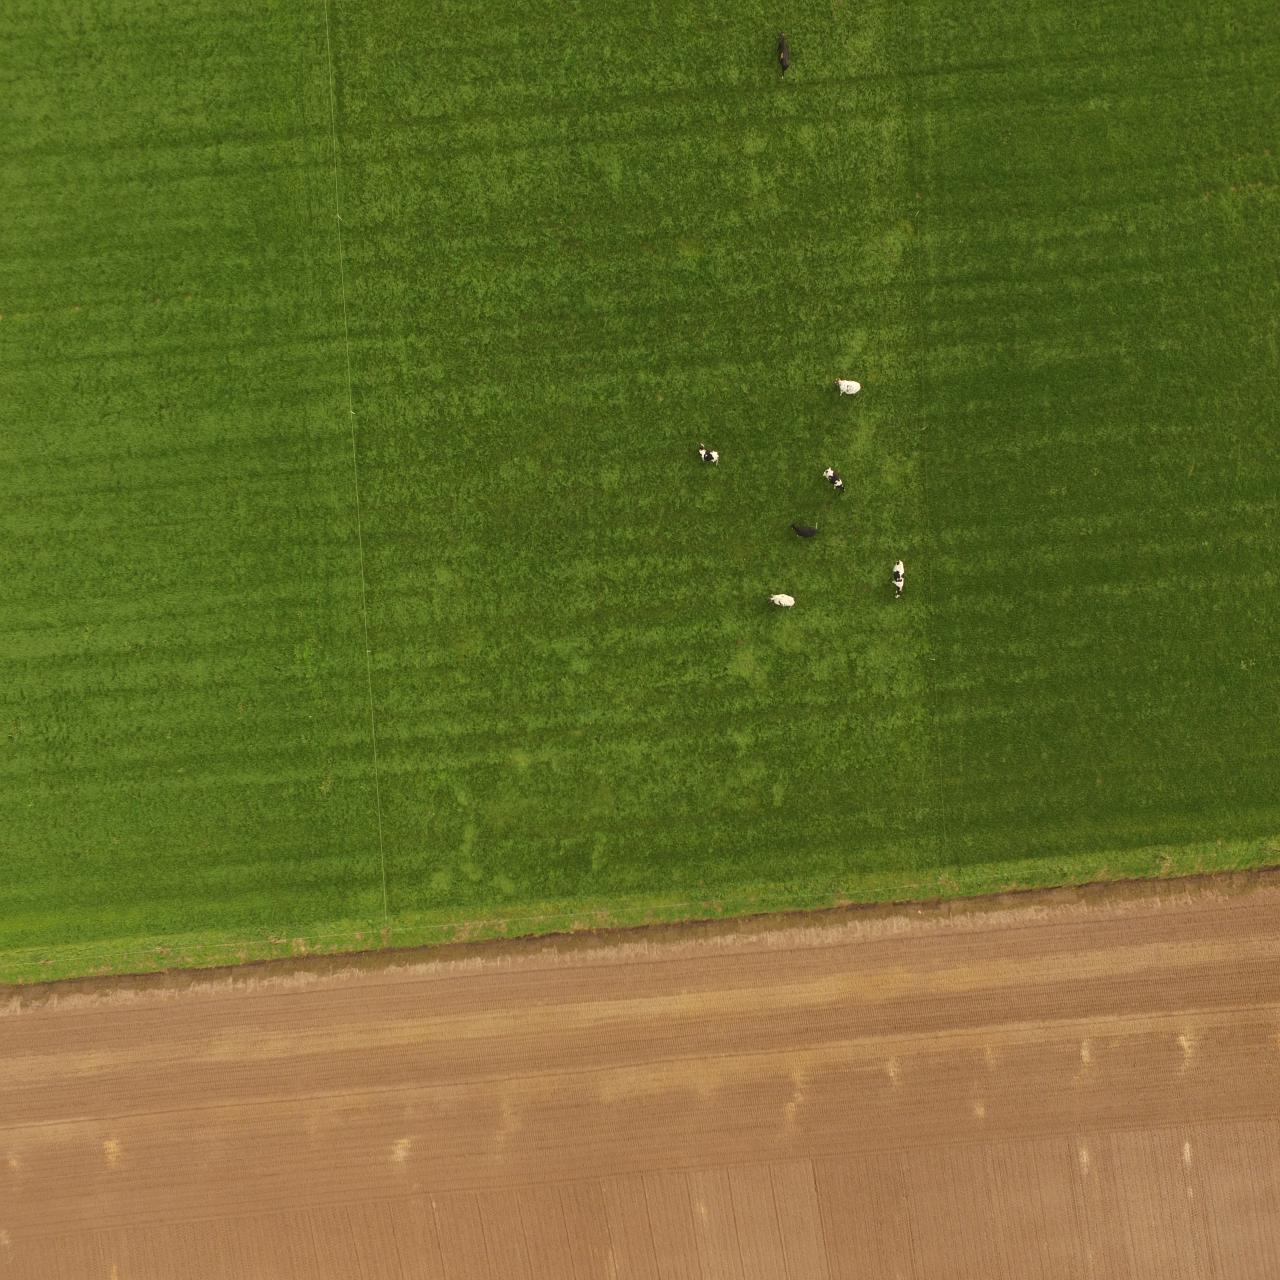cow: (822, 463, 850, 493), (787, 519, 822, 543), (696, 441, 726, 468), (832, 375, 863, 400), (762, 590, 799, 608), (892, 558, 907, 594)
